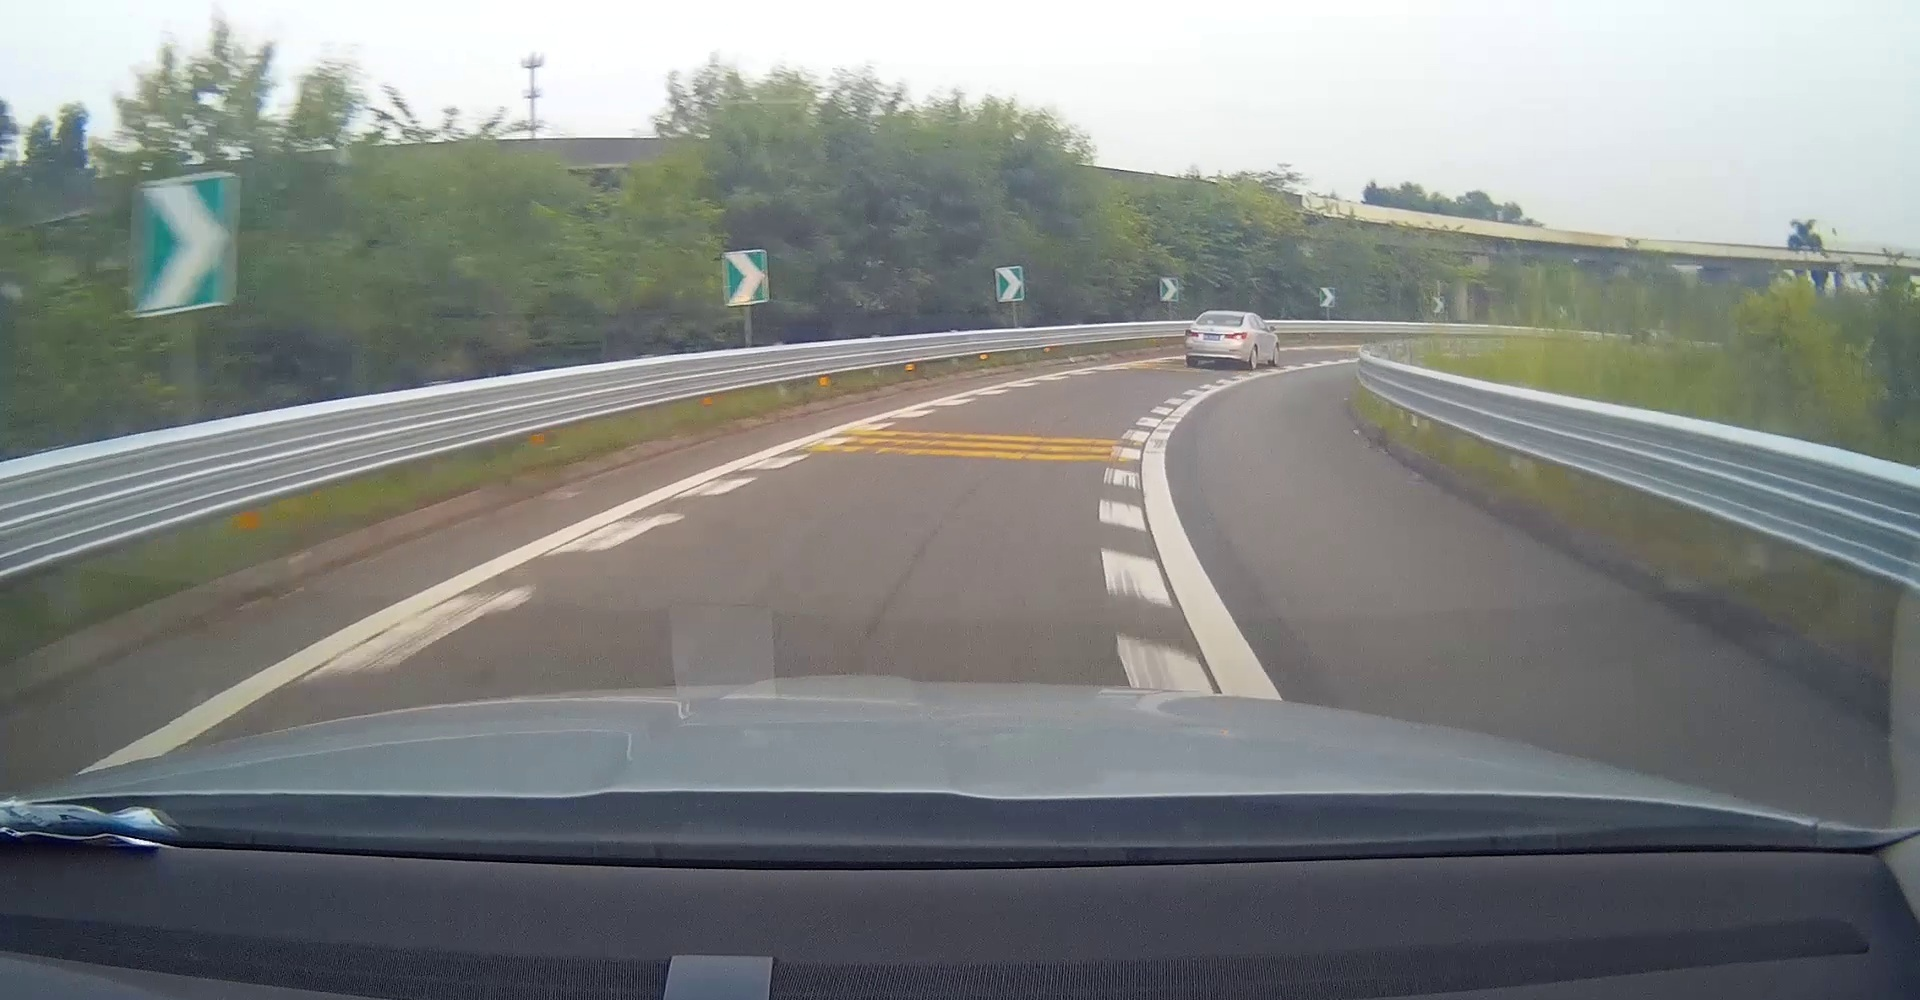L_light: (1185, 329, 1199, 338)
R_light: (1225, 332, 1246, 338)
T_light: (1213, 322, 1223, 326)
day-right: (1183, 310, 1247, 371)
